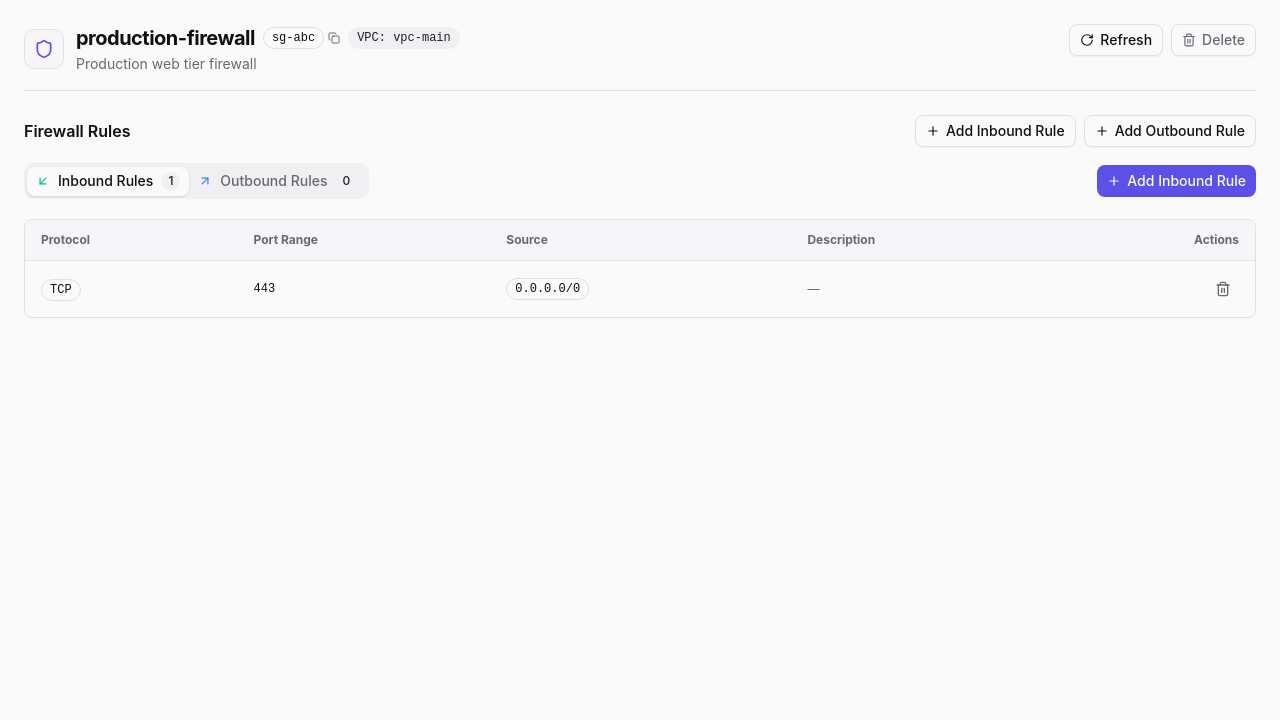
SecurityGroupDetailView › opens Add Inbound Rule dialog on button click
Click the button "Add Inbound Rule" in the row of "Firewall Rules".
click(995, 131)  # box [915,115,1076,147]
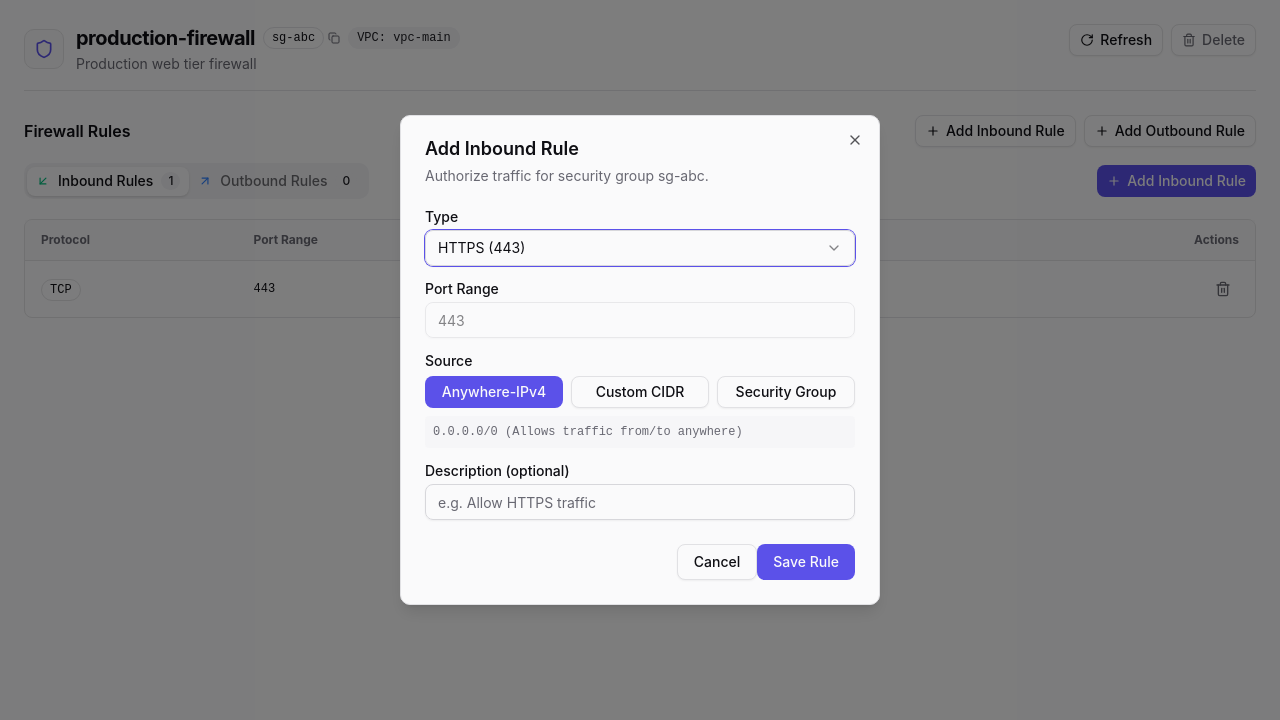
Expected: the heading "Add Inbound Rule" is shown, [425,138,579,159]
